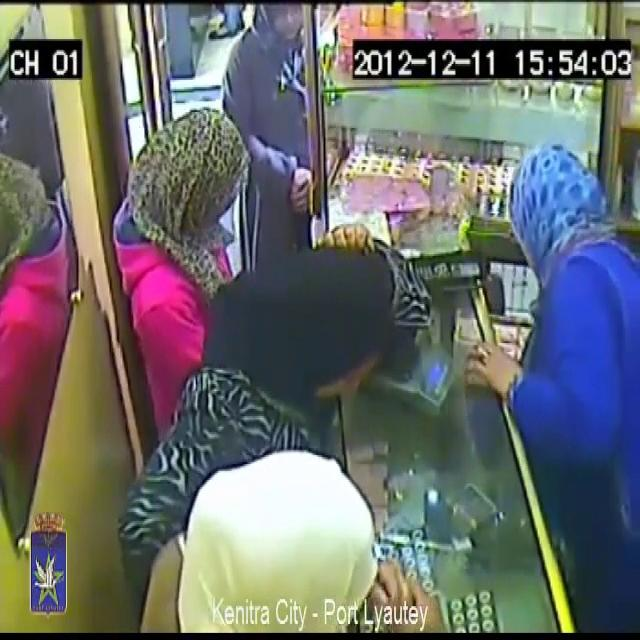normal: (503, 73, 640, 640), (166, 405, 382, 640), (120, 64, 232, 330), (257, 218, 388, 436), (238, 10, 322, 230)
